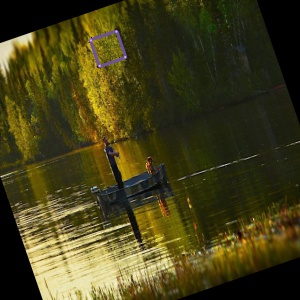square: (86, 28, 130, 68)
